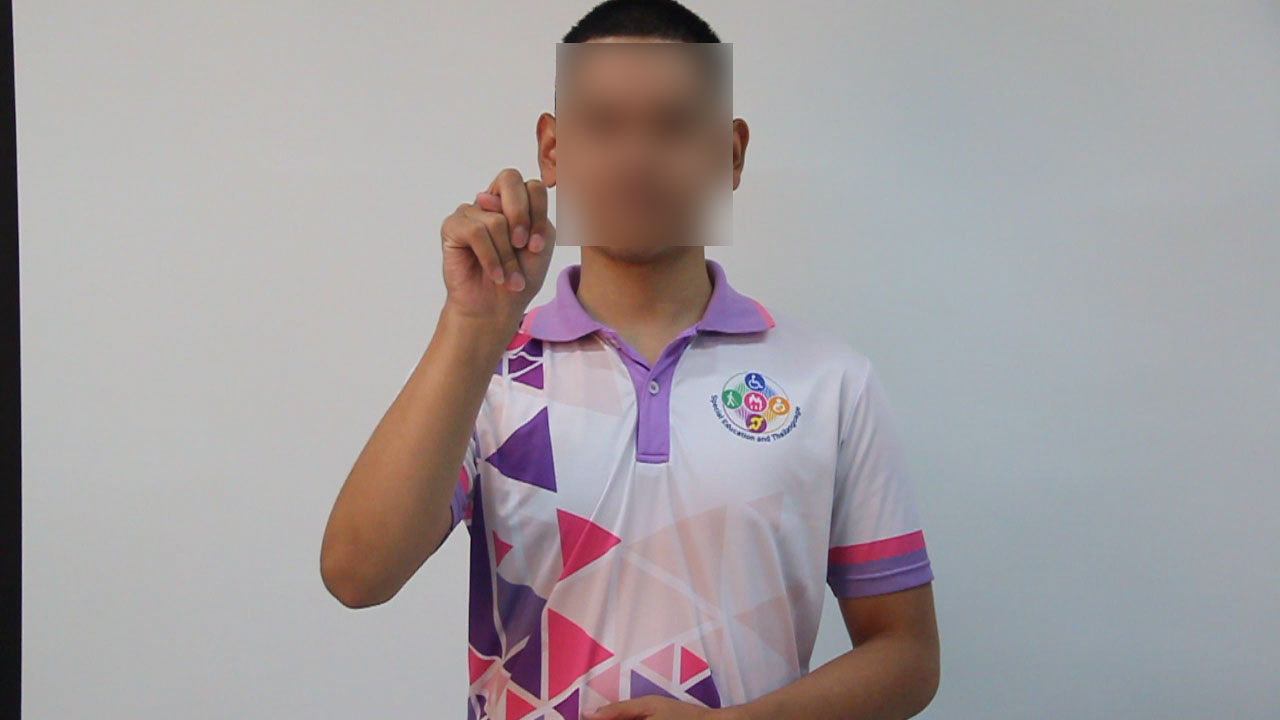nor: (412, 162, 568, 312)
